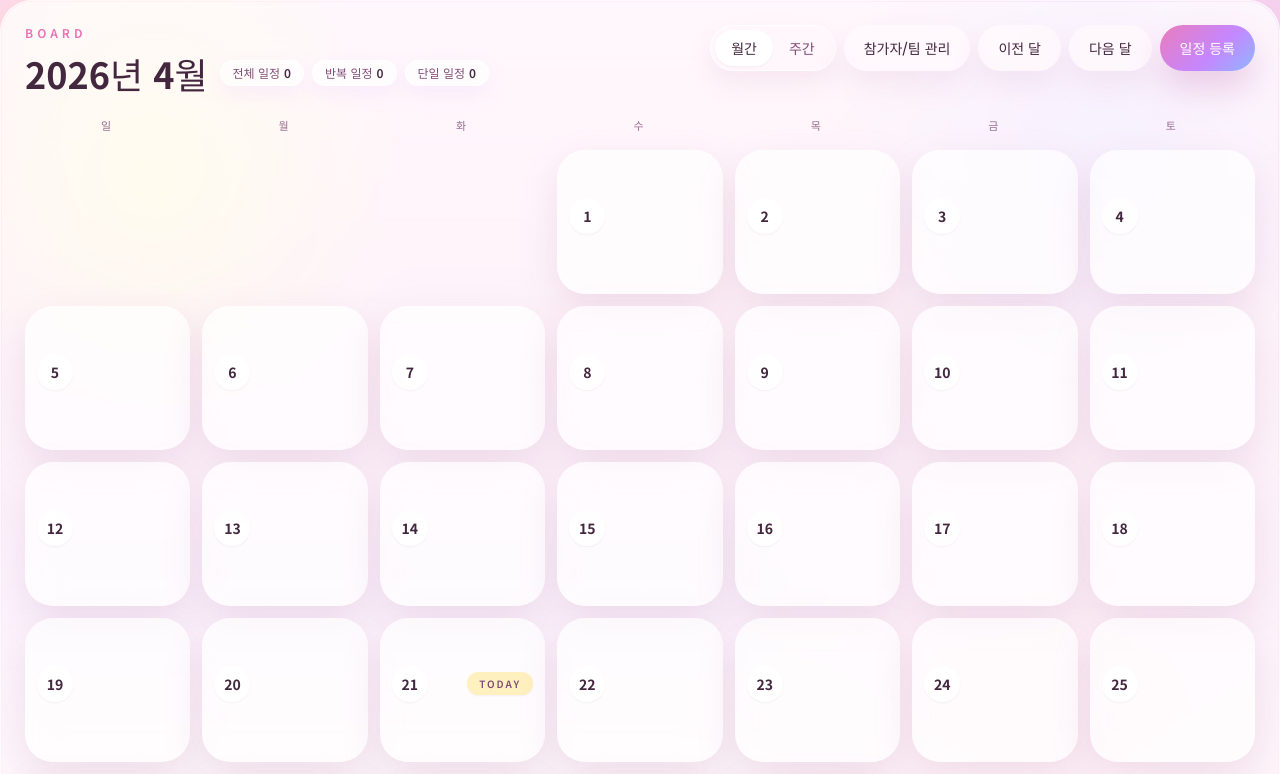
Test: CalendarPage › opens the create modal from a calendar day selection
Click the button named "Open day 2026-04-15": (640, 534) [557,462,723,606]
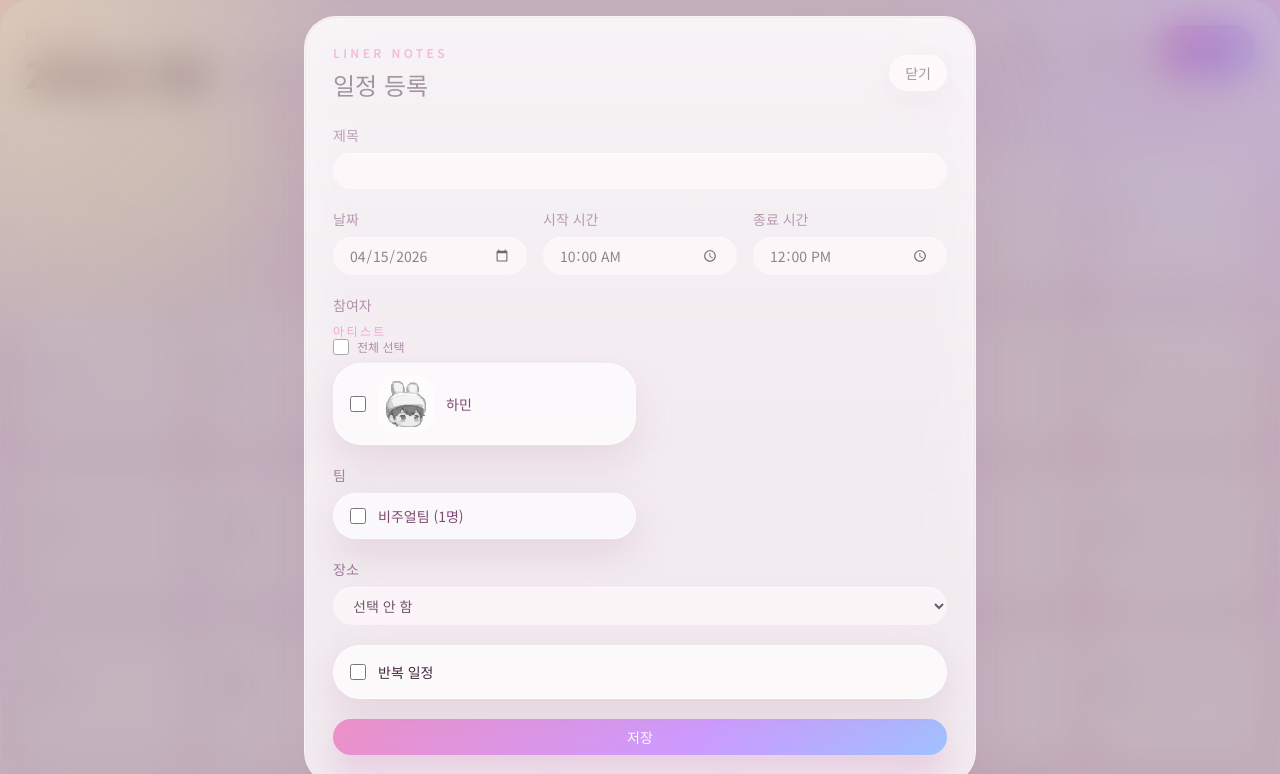
Check: the heading "일정 등록" is shown, box [333,67,428,102]
Check: the date field labelled "날짜" holds "2026-04-15", box [333,237,527,275]
Check: the dropdown labelled "장소" shows "선택 안 함", box [333,587,947,625]
